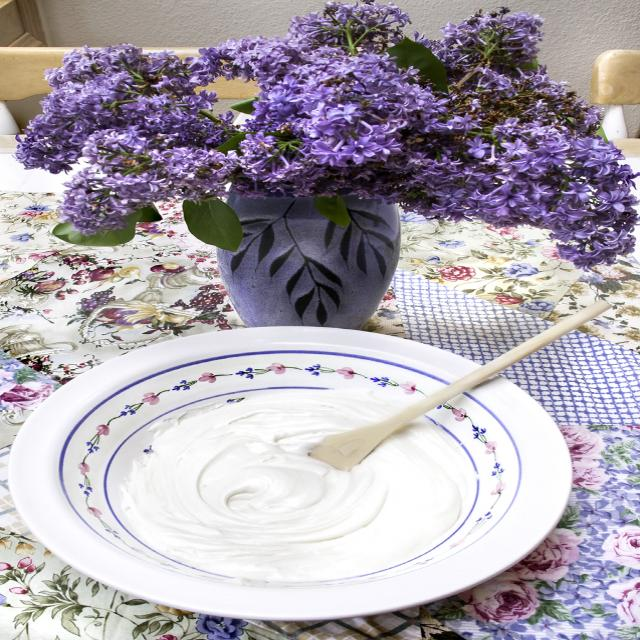non-organic waste: (43, 324, 617, 631)
